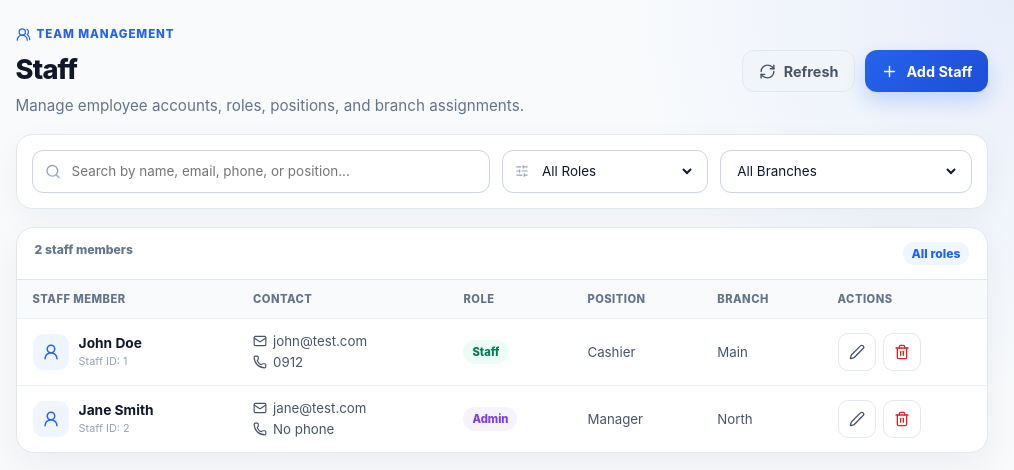
Test case: filters by role and branch
This screenshot has width=1014, height=470.
Expected: the text "John Doe" is shown, [79,335,142,351]
Select "Admin" in the dropdown named "Role". click: x=617, y=171
box: [538,150,695,192]
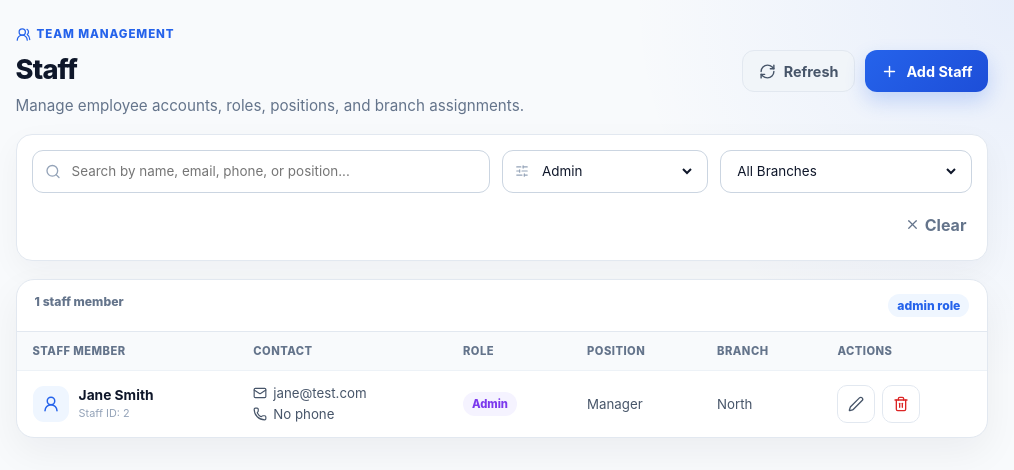
Expected: the text "Jane Smith" is shown, [79,387,154,403]
Expected: the text "John Doe" is gone
